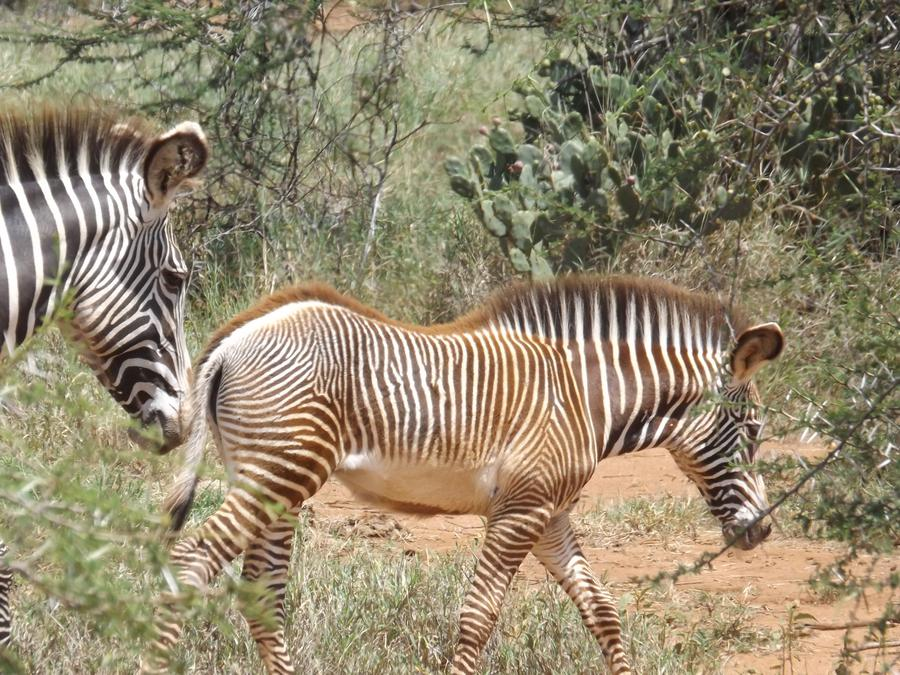zebra_grevys: (216, 256, 595, 526)
